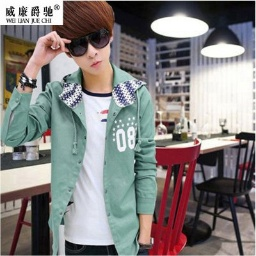face: (50, 2, 117, 79)
